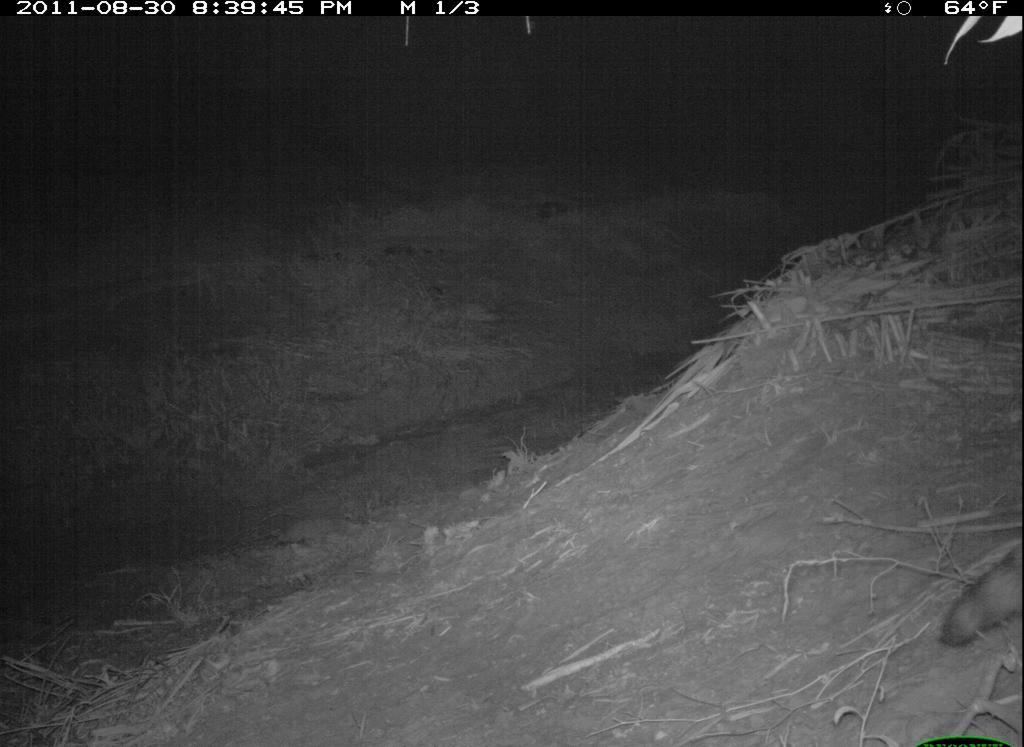raccoon: (936, 528, 1023, 669)
